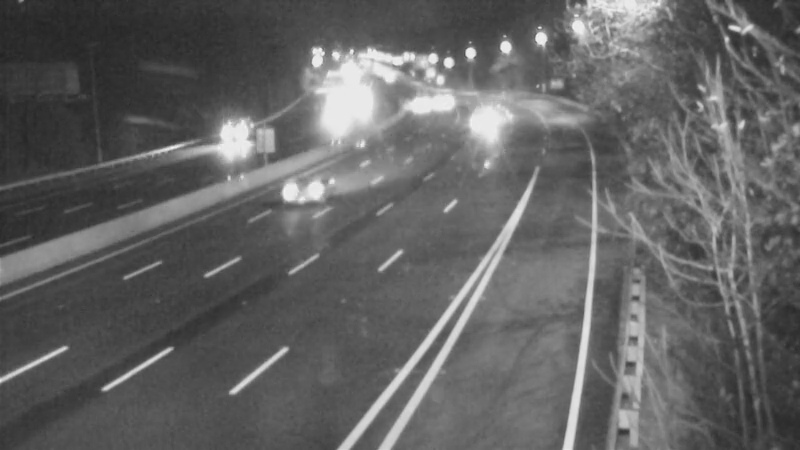vehicle: (259, 152, 339, 232), (416, 74, 466, 124), (390, 81, 440, 131), (459, 91, 509, 141), (205, 113, 255, 163), (303, 89, 353, 139)
